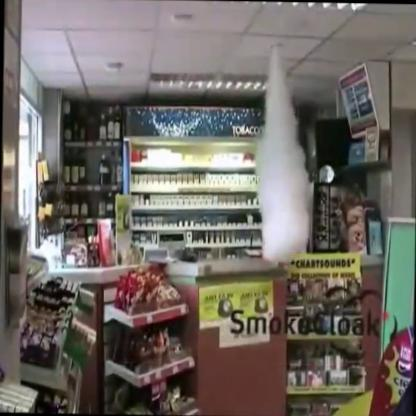smoke: (253, 40, 317, 267)
